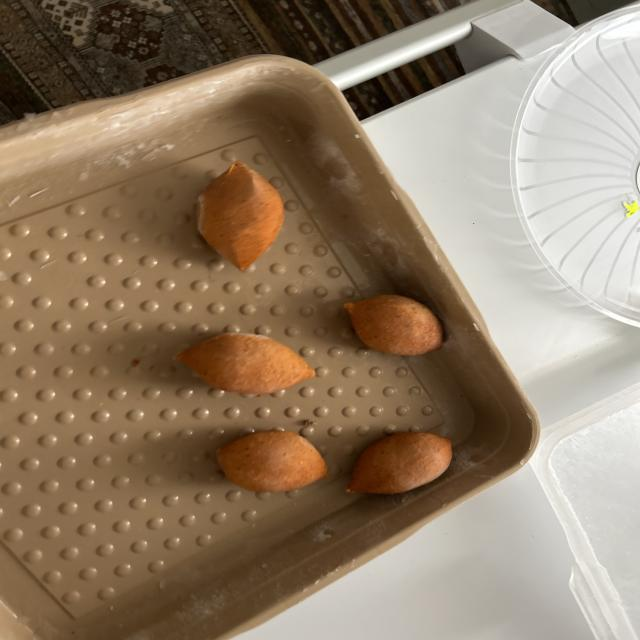kobi: (194, 160, 284, 270), (173, 332, 316, 396), (346, 430, 453, 494), (218, 432, 328, 493), (343, 293, 443, 356)
